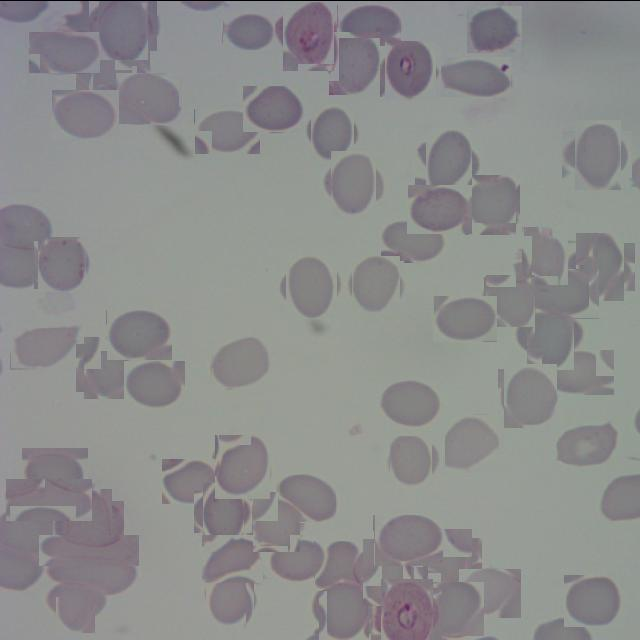leukocyte: (46, 554, 138, 596), (82, 40, 144, 101), (5, 478, 92, 521), (526, 268, 599, 318), (374, 514, 444, 566), (212, 436, 272, 496), (418, 532, 478, 591), (115, 72, 182, 124), (59, 494, 118, 553), (520, 305, 580, 363), (500, 366, 560, 424), (568, 124, 626, 183), (106, 309, 172, 360), (314, 578, 372, 636), (572, 237, 630, 295), (358, 542, 416, 600), (282, 257, 340, 315), (326, 33, 383, 91), (444, 414, 501, 472), (543, 349, 614, 395), (420, 132, 477, 189), (93, 0, 152, 55), (380, 378, 442, 430), (52, 89, 119, 137), (462, 176, 518, 232), (326, 155, 382, 211), (408, 184, 472, 233), (426, 581, 484, 635), (564, 574, 624, 626), (39, 534, 139, 565), (552, 421, 620, 466), (459, 568, 521, 617), (194, 108, 260, 154), (22, 447, 88, 493), (28, 31, 100, 73), (433, 295, 497, 341), (124, 360, 185, 408), (202, 534, 263, 582), (80, 340, 134, 394), (249, 494, 303, 548), (212, 336, 268, 388), (382, 218, 448, 262), (277, 473, 336, 522), (204, 572, 258, 624), (243, 85, 304, 131), (441, 56, 511, 96), (10, 326, 75, 368), (520, 230, 572, 282), (350, 258, 402, 310), (36, 238, 88, 290), (338, 4, 402, 46), (162, 458, 221, 503), (50, 574, 101, 626), (307, 106, 358, 157), (485, 275, 536, 326), (467, 5, 522, 52), (267, 538, 325, 582), (198, 486, 248, 536), (314, 540, 361, 590), (386, 438, 434, 486), (222, 12, 276, 52)
red blood cell: (279, 5, 339, 66), (375, 583, 437, 640), (382, 42, 438, 98)
